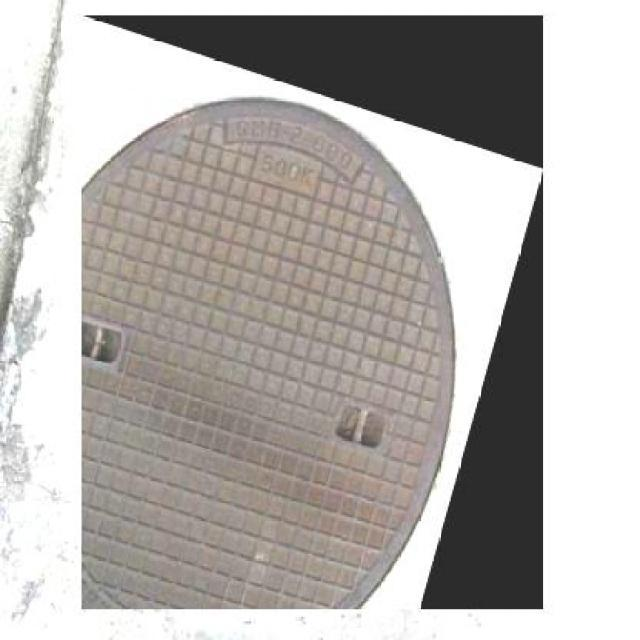Manhole: (82, 16, 544, 610)
